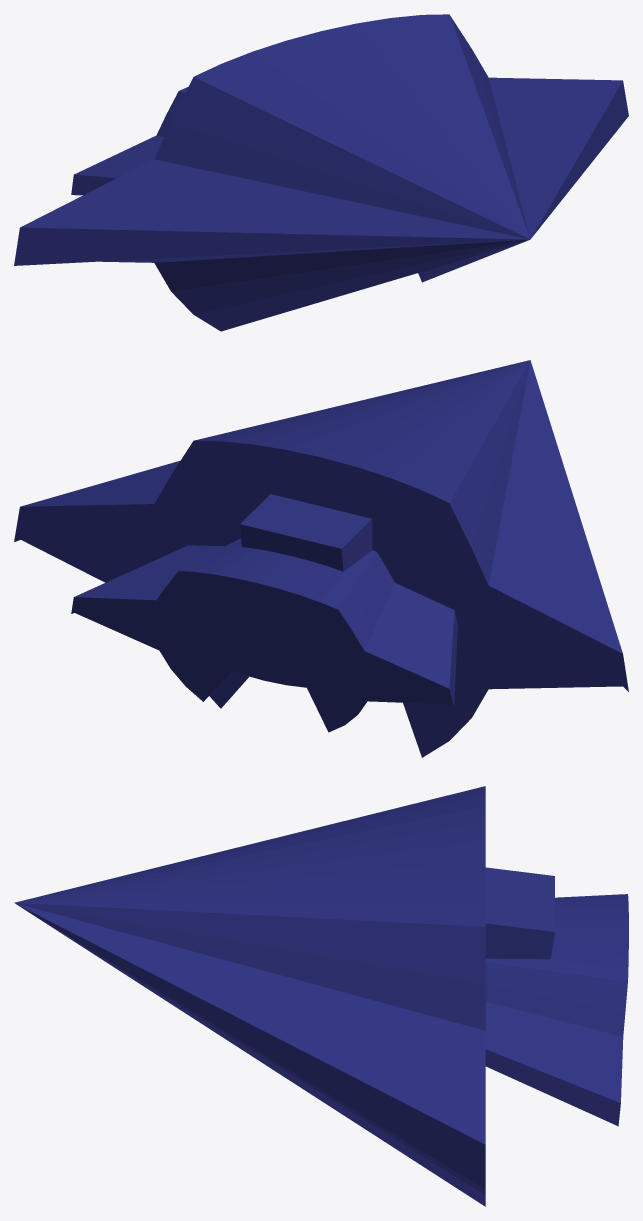
The model's file is player.obj.
3 renders of one model, top to bottom at view 1: azimuth 30°, elevation 25°; view 2: azimuth 150°, elevation 25°; view 3: azimuth 270°, elevation 25°, orthographic. The views are drawn at different scales.
Parts seen in each view (by area): view 1: 立方体; view 2: 立方体; view 3: 立方体.
Part boxes in pixels (x1,y1,x2,y2): 立方体: (14,14,628,331); 立方体: (14,360,628,757); 立方体: (14,786,628,1206).
Size of the model in its own units: 3.4 by 1.46 by 2.61.
1 material, 1 textured.
